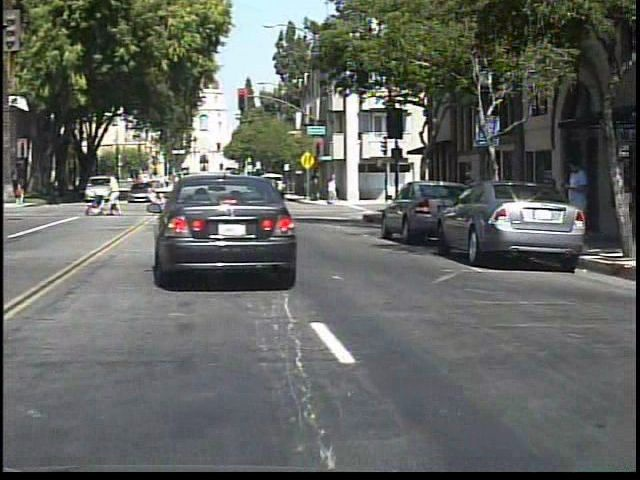person: (565, 153, 595, 258), (111, 170, 132, 218), (16, 174, 33, 208), (78, 174, 79, 206)
